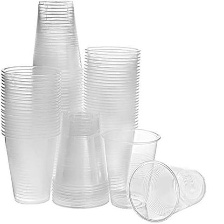glass: (77, 38, 143, 197), (0, 57, 69, 209), (26, 0, 91, 126), (46, 105, 122, 208), (122, 152, 218, 223), (106, 122, 162, 208)
